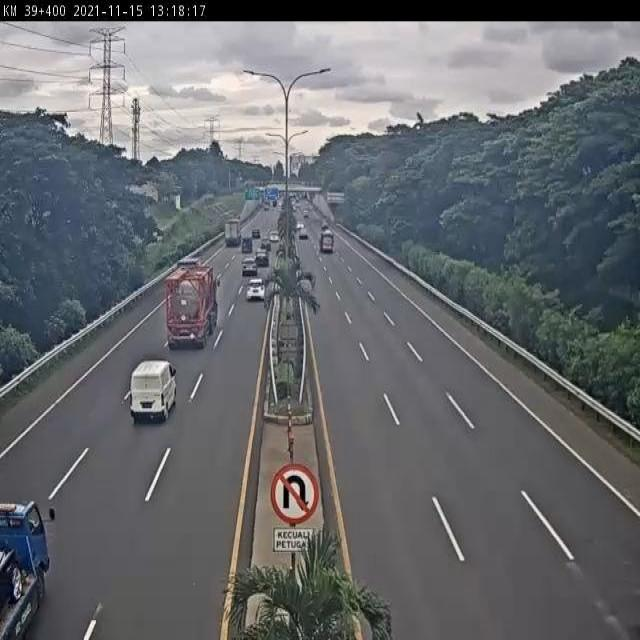Car: (247, 277, 266, 301), (320, 228, 334, 253), (242, 258, 256, 277), (255, 250, 268, 266), (242, 237, 252, 253), (269, 231, 280, 243), (276, 245, 286, 258), (299, 226, 308, 239), (286, 195, 295, 206), (255, 194, 263, 206), (298, 198, 306, 209), (296, 222, 304, 232), (252, 229, 260, 238), (278, 201, 284, 210), (308, 194, 314, 202), (303, 193, 309, 201), (263, 203, 269, 211), (272, 199, 277, 207), (304, 211, 308, 218)
Truck: (0, 492, 58, 640), (164, 261, 219, 351), (224, 219, 241, 248)
Van: (127, 361, 175, 423)
